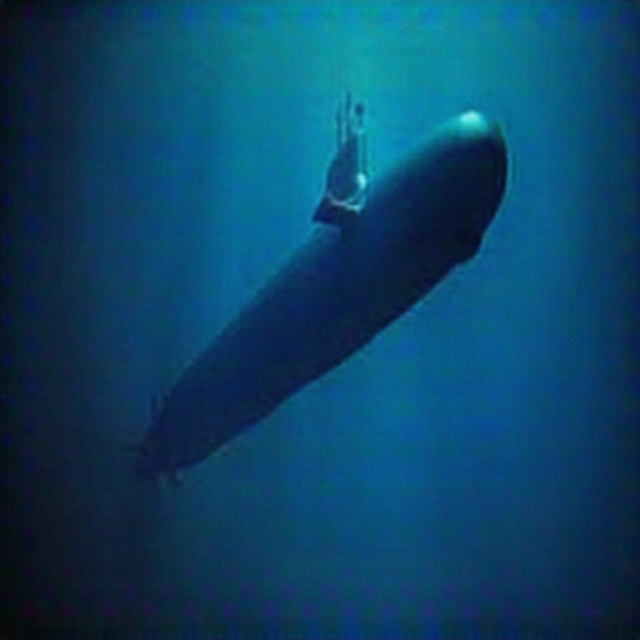submarine: (130, 68, 517, 506)
